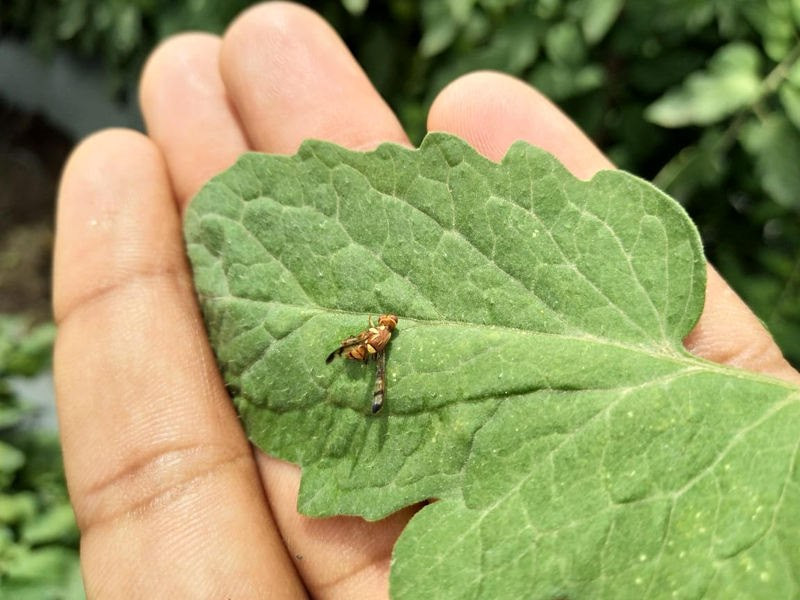Fruit fly: (319, 296, 412, 413)
